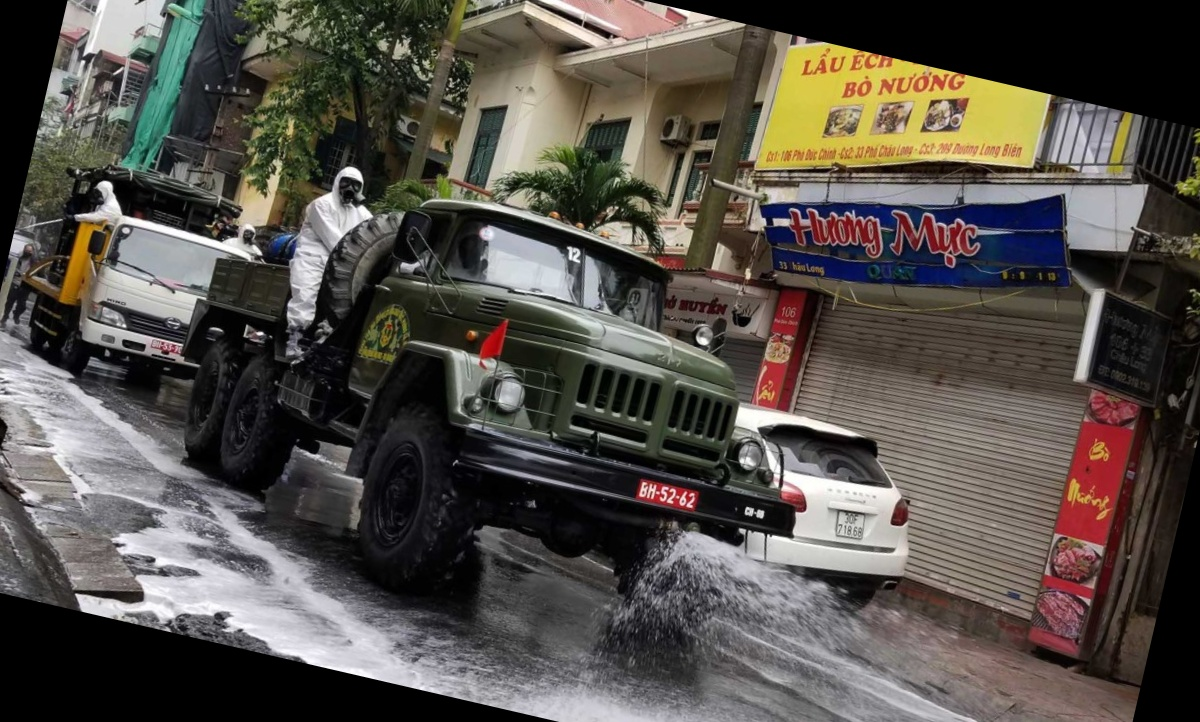plate: (629, 471, 699, 511), (832, 505, 874, 546)
